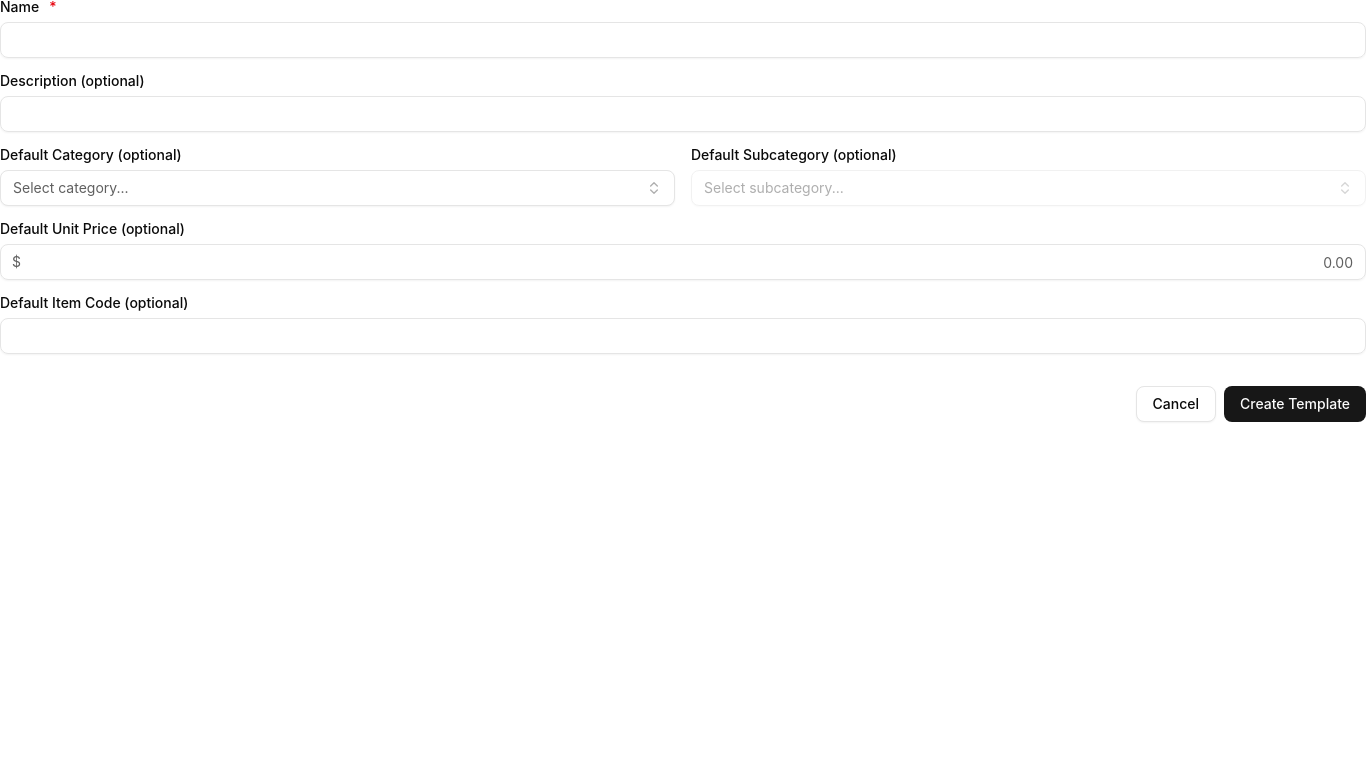
ItemTemplateForm › filters category options via typeahead and selects a filtered result
# Open the category combobox
Click the dropdown named "default category" at coordinates (71, 188), box [0, 170, 675, 206]
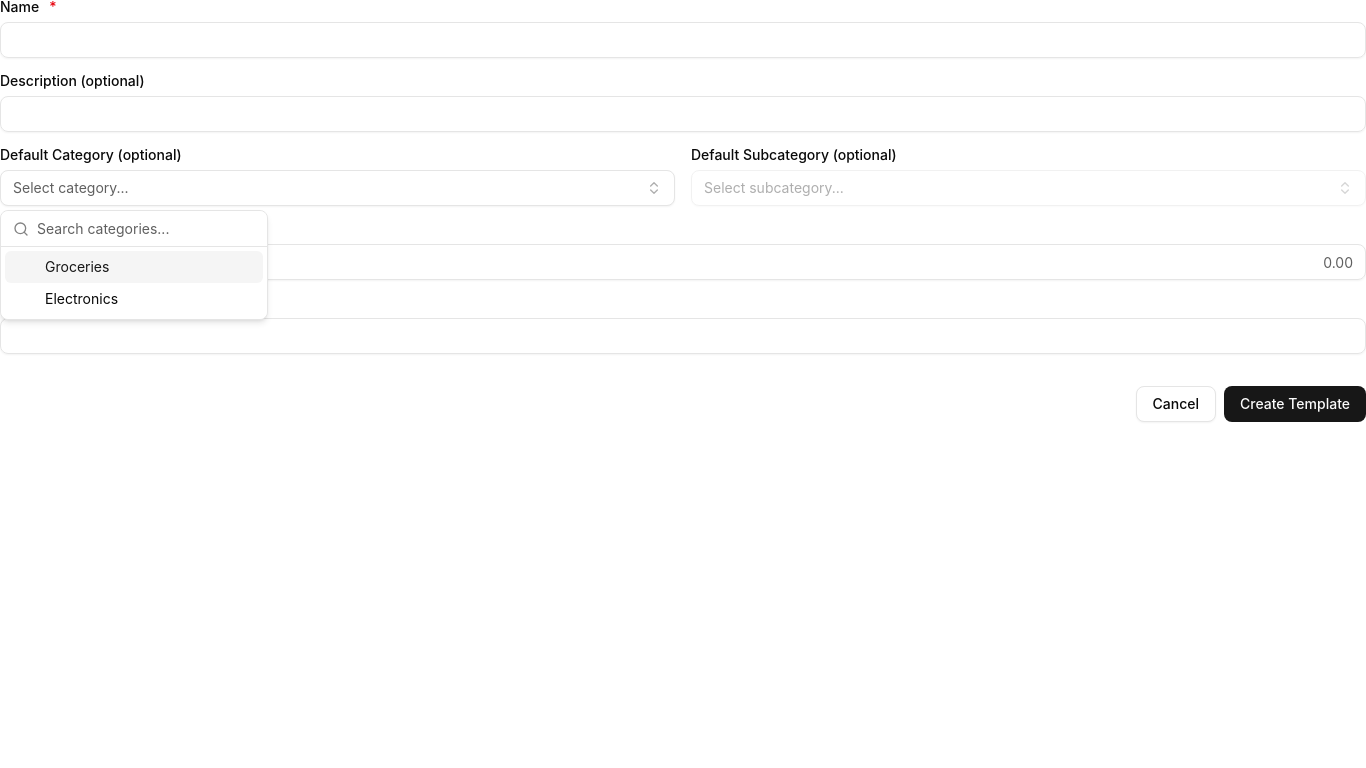
Expected: the text "Groceries" is shown, [45, 257, 109, 277]
Expected: the text "Electronics" is shown, [45, 289, 118, 309]
# Type to filter — only "Electronics" should match
Type "elec" into the dropdown with placeholder "Search categories..." at coordinates (146, 228), box [37, 208, 255, 248]
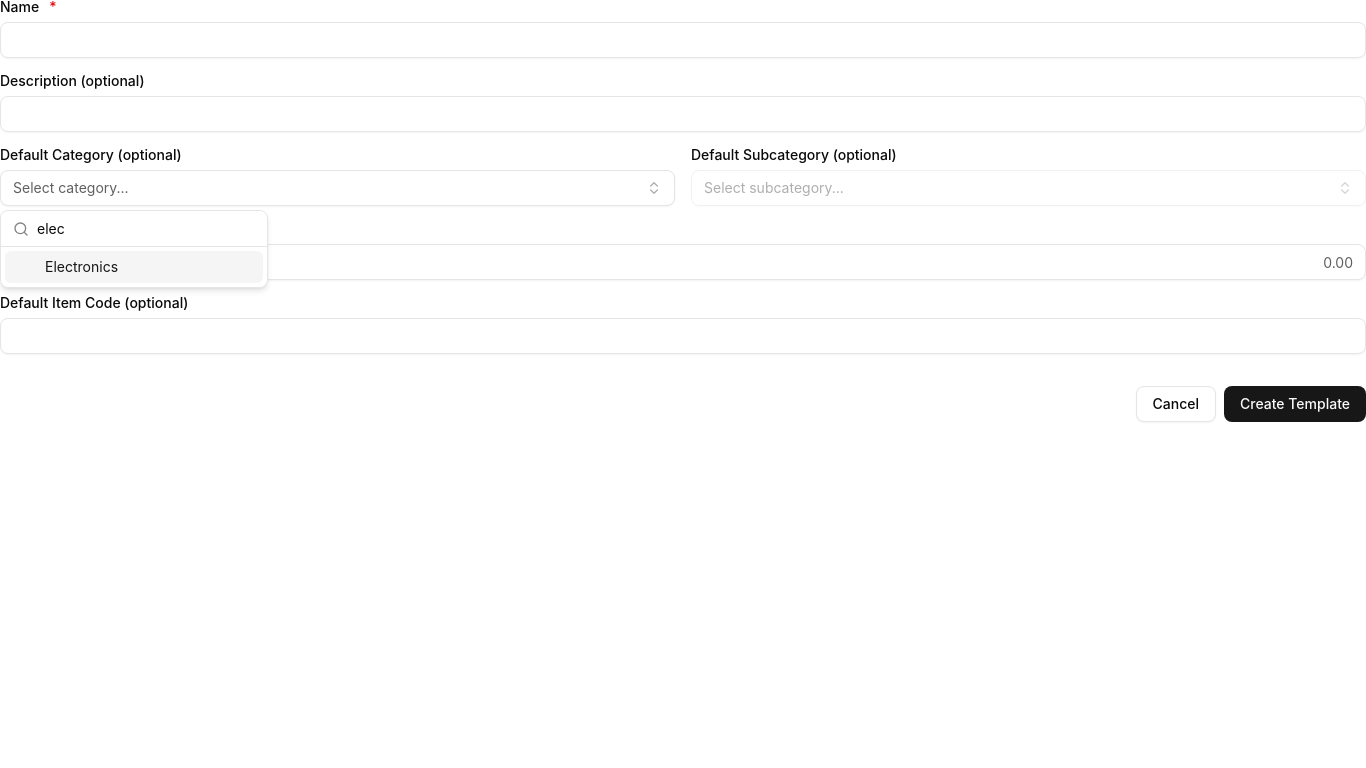
Expected: the text "Electronics" is shown, [45, 257, 118, 277]
Expected: the option "Groceries" is gone
# Select the filtered result
Click the option "Electronics" at coordinates (134, 267), box [5, 251, 263, 283]
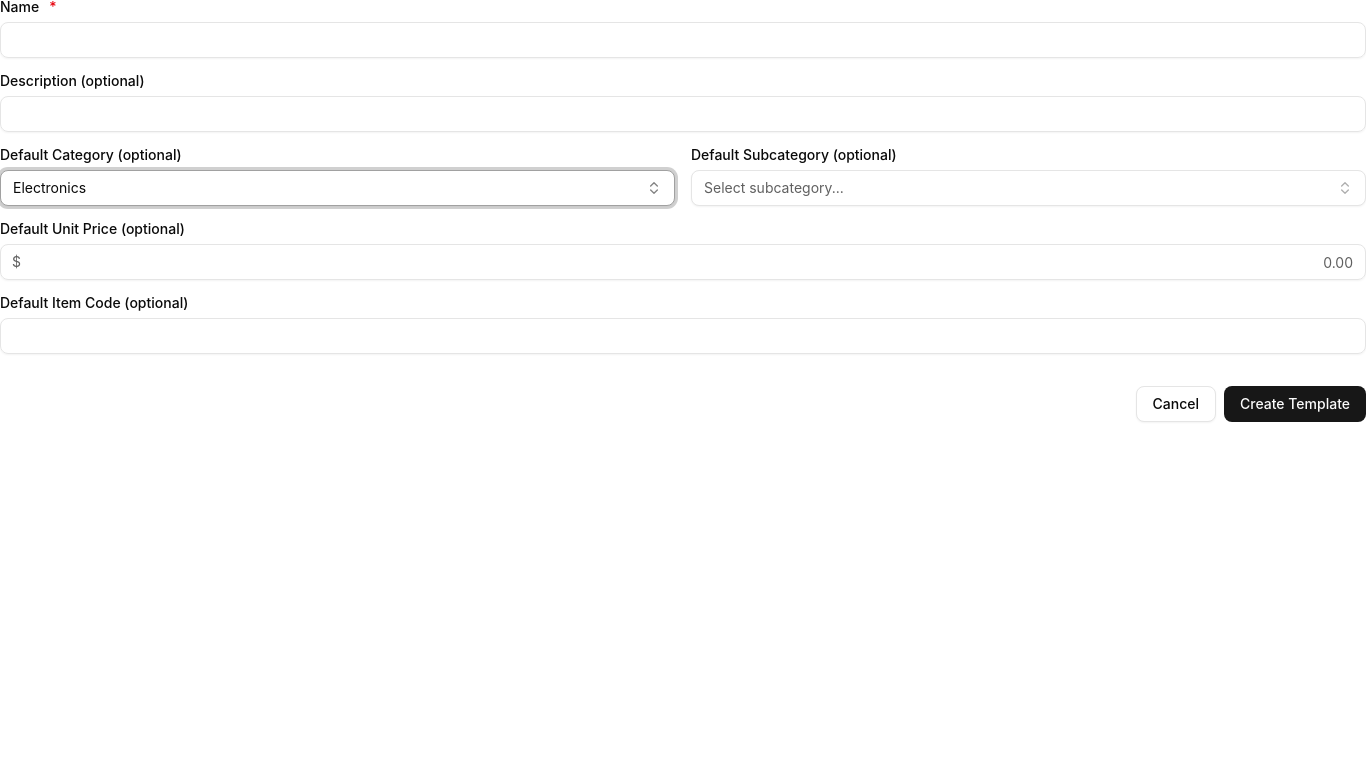
Expected: the dropdown named "default category" reads "Electronics", [0, 170, 675, 206]
